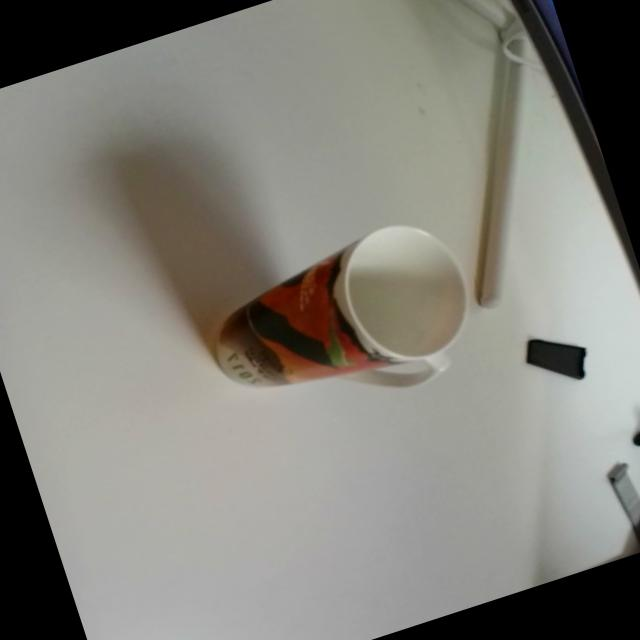Halloween cup: (191, 206, 494, 443)
